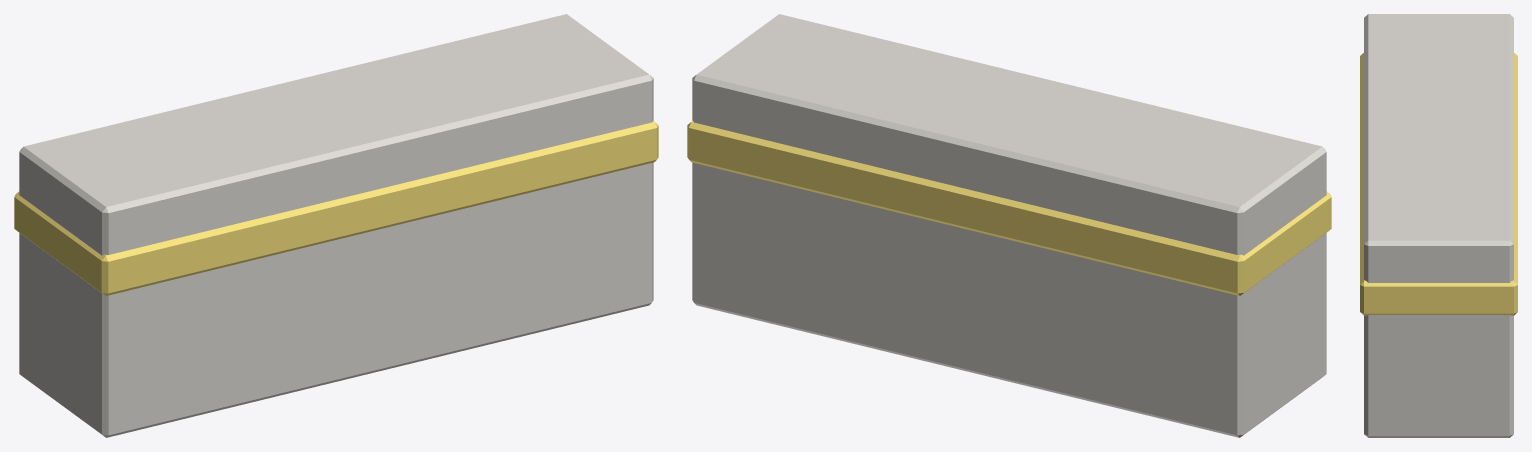
Rendered from 街道_隔离墩_01.fbx.
3 views of the same model, side by side, from view 1: azimuth 30°, elevation 25°; view 2: azimuth 150°, elevation 25°; view 3: azimuth 270°, elevation 25° (orthographic). The views are drawn at different scales.
Parts seen in each view (by area): view 1: 墩体, 反光条; view 2: 墩体, 反光条; view 3: 墩体, 反光条.
Boxes of the visible parts, x1,y1,x2,y2 form: 墩体: [19, 14, 653, 437]; 反光条: [14, 121, 658, 295]; 墩体: [692, 14, 1326, 437]; 反光条: [687, 121, 1331, 295]; 墩体: [1364, 14, 1513, 437]; 反光条: [1360, 53, 1517, 315].
Size of the model in its own units: 202 by 80 by 58.
